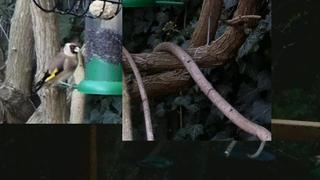goldfinch: (31, 40, 82, 94)
